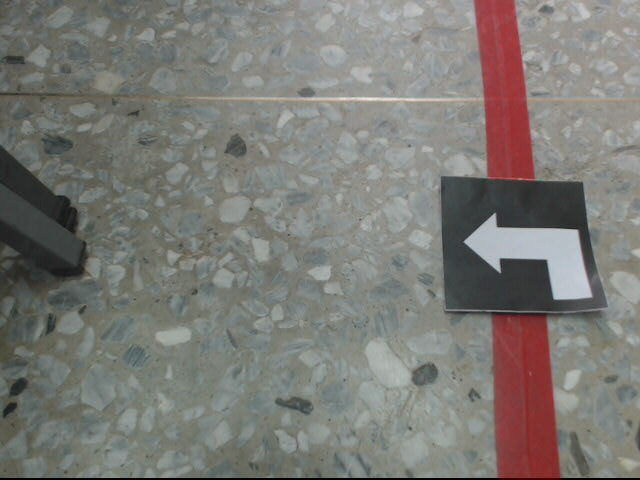left: (440, 174, 608, 315)
